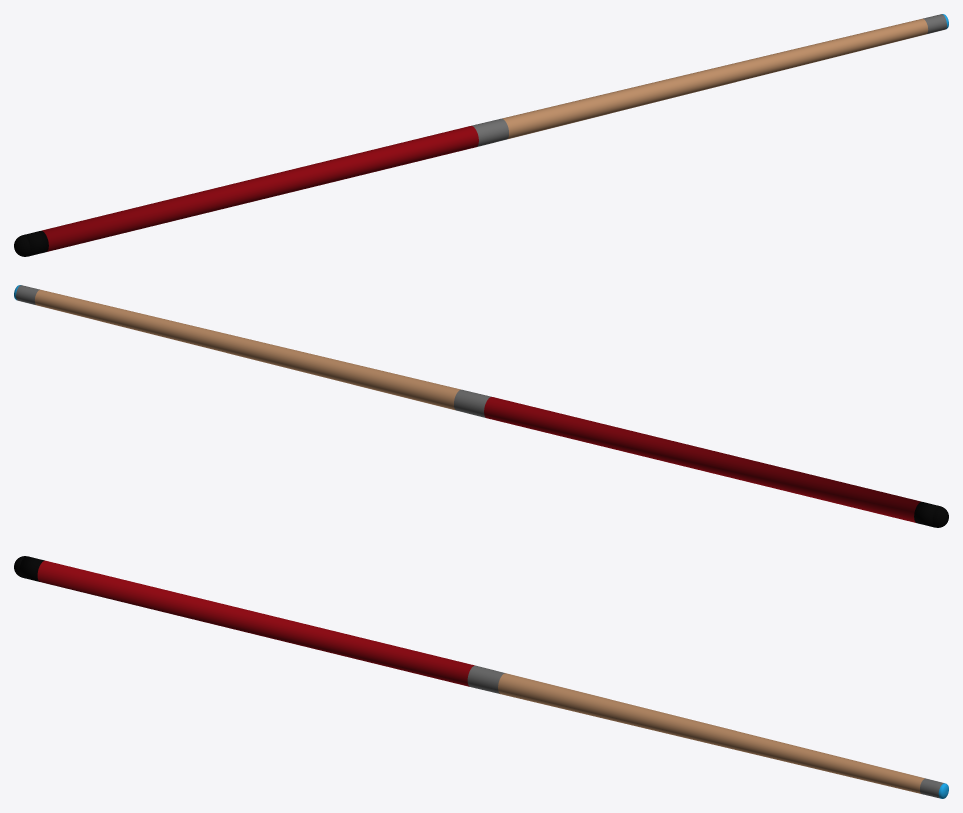
File: Cue.fbx
3 views of the same model, one above another, from view 1: azimuth 30°, elevation 25°; view 2: azimuth 150°, elevation 25°; view 3: azimuth 330°, elevation 25° (orthographic).
Visible parts, largest first — view 1: Cue; view 2: Cue; view 3: Cue.
Part boxes in pixels (x1,y1,x2,y2): Cue: (14, 14, 948, 256); Cue: (14, 285, 948, 527); Cue: (14, 556, 948, 798).
Size of the model in its own units: 4369 by 89.56 by 91.86.
